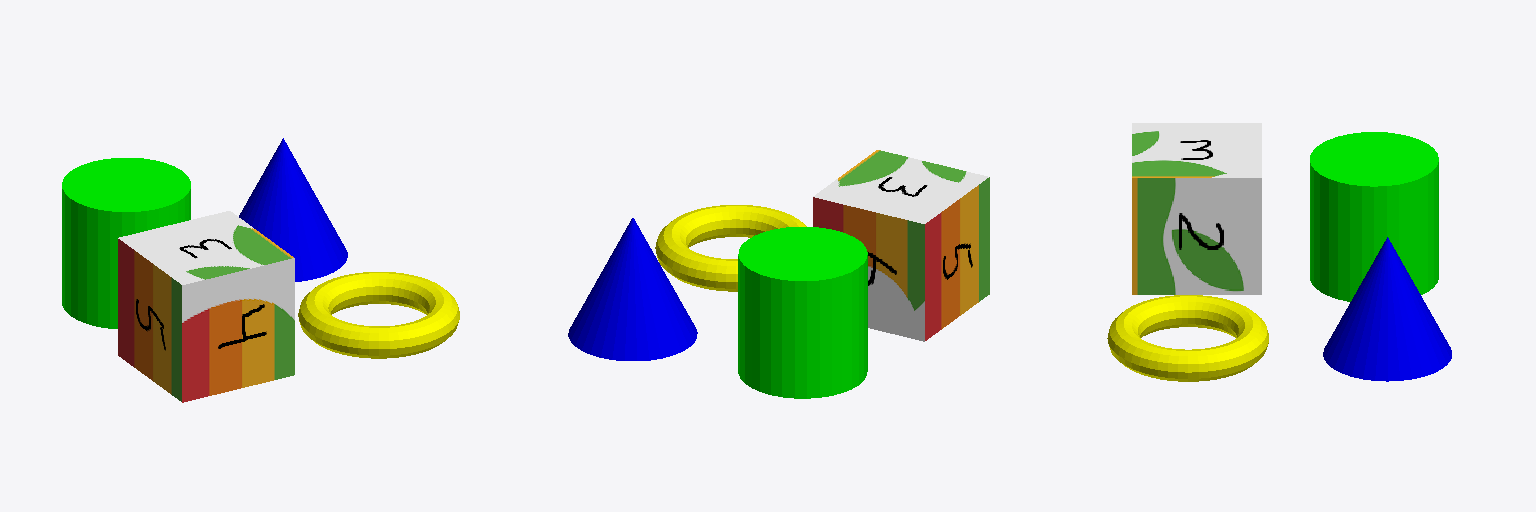
3 views of the same model, side by side, from view 1: azimuth 30°, elevation 25°; view 2: azimuth 150°, elevation 25°; view 3: azimuth 270°, elevation 25° (orthographic).
Visible parts, largest first — view 1: Cube, Cylinder, Torus, Cone; view 2: Cube, Cylinder, Cone, Torus; view 3: Cube, Cylinder, Cone, Torus.
Boxes of the visible parts, box(x1,y1,x2,y2) form: Cube: box(118, 211, 294, 402); Cylinder: box(62, 158, 190, 328); Torus: box(298, 272, 459, 358); Cone: box(239, 138, 347, 281); Cube: box(813, 150, 989, 341); Cylinder: box(738, 227, 867, 398); Cone: box(568, 218, 697, 360); Torus: box(655, 205, 806, 291); Cube: box(1132, 123, 1261, 294); Cylinder: box(1310, 132, 1438, 301); Cone: box(1323, 237, 1451, 381); Torus: box(1107, 295, 1268, 381).
Size of the model in its own units: 5.26 by 2.07 by 5.32.
4 materials, 1 textured.